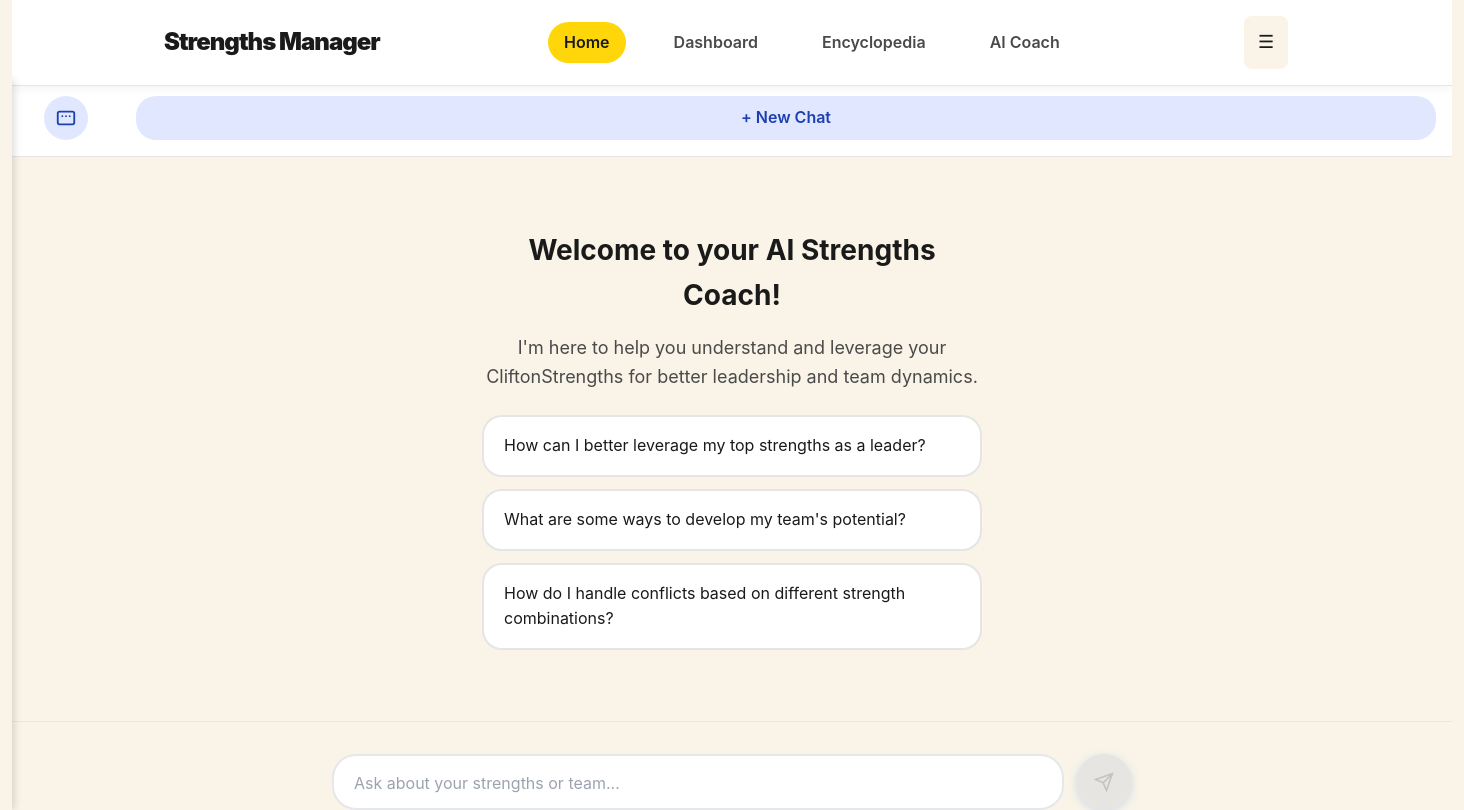
Test case: ChatCoach › handles errors gracefully
Type "Test message" into the text box with placeholder "Ask about your strengths or team..." at (698, 782), box [332,754,1064,809]
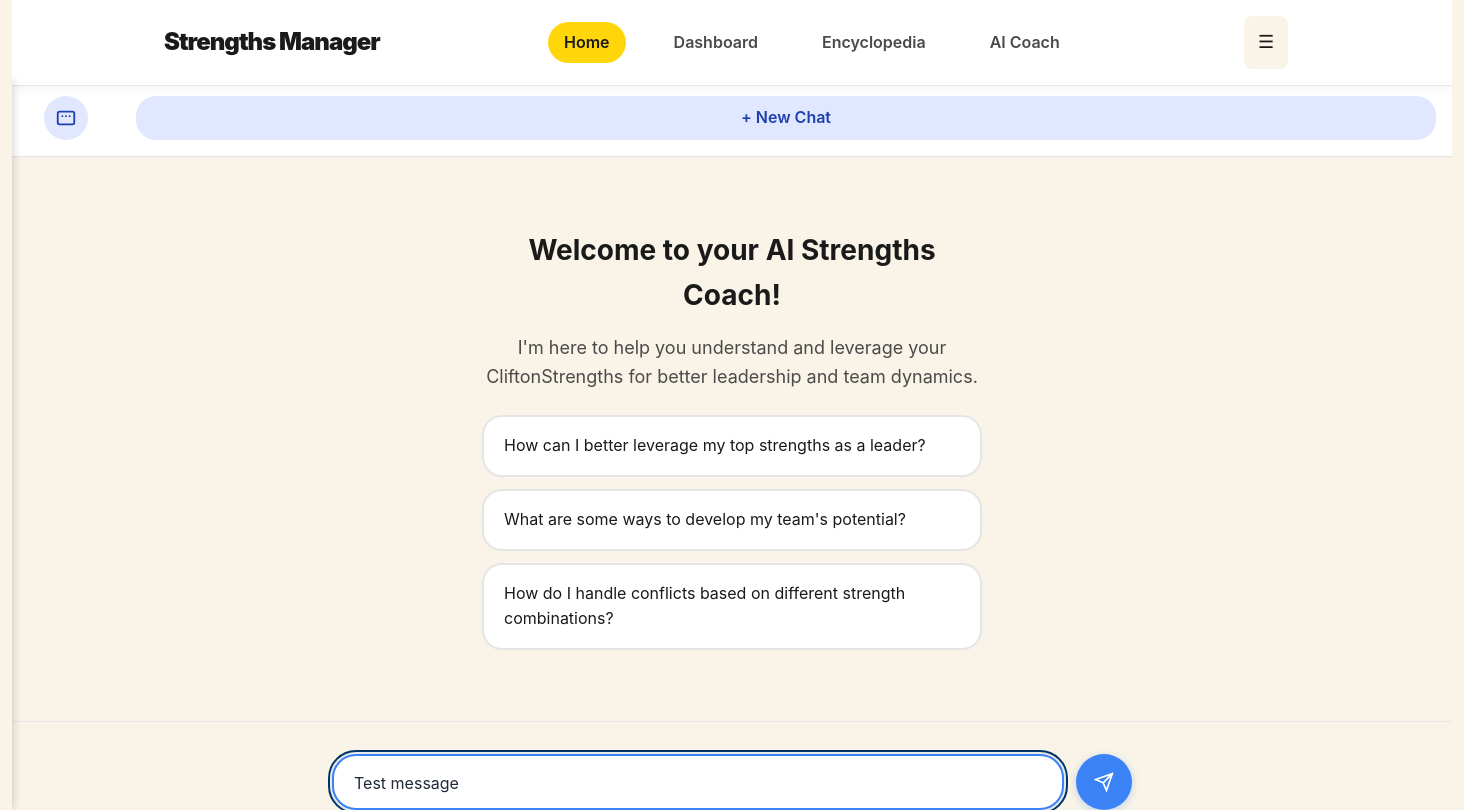
Click the button named "send message" at (1104, 782), box [1076,754,1132,809]
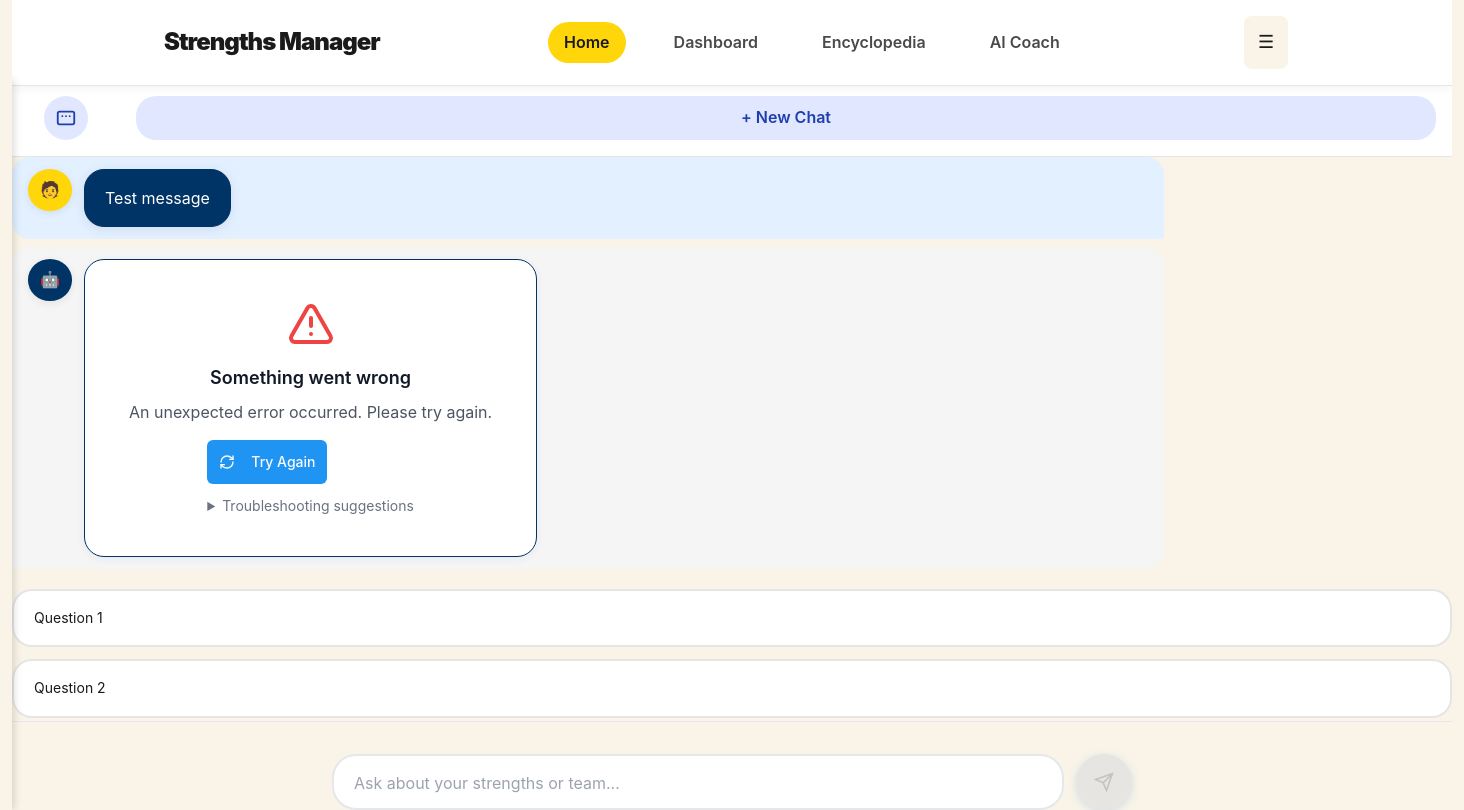
Expected: the text "An unexpected error occurred. Please try again." is shown, [129,400,492,424]
